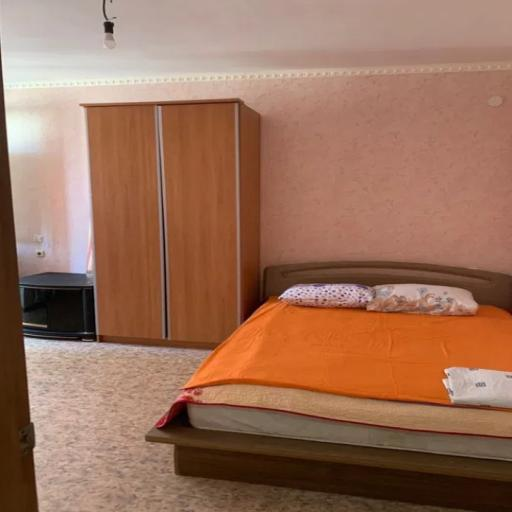bus: (84, 99, 259, 346)
person: (147, 262, 512, 511)
